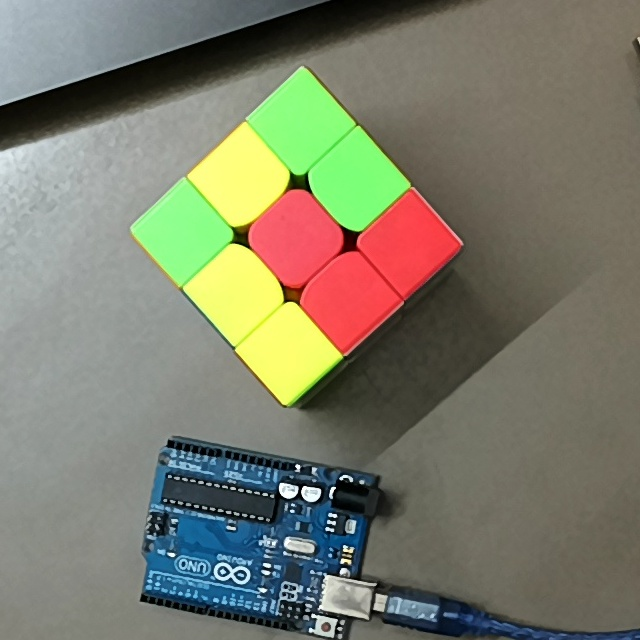tile: (206, 263, 261, 320), (320, 273, 376, 326), (154, 208, 207, 262), (383, 218, 436, 270), (328, 158, 382, 209), (272, 99, 327, 148), (263, 328, 316, 378), (214, 152, 263, 205), (268, 215, 321, 264)
